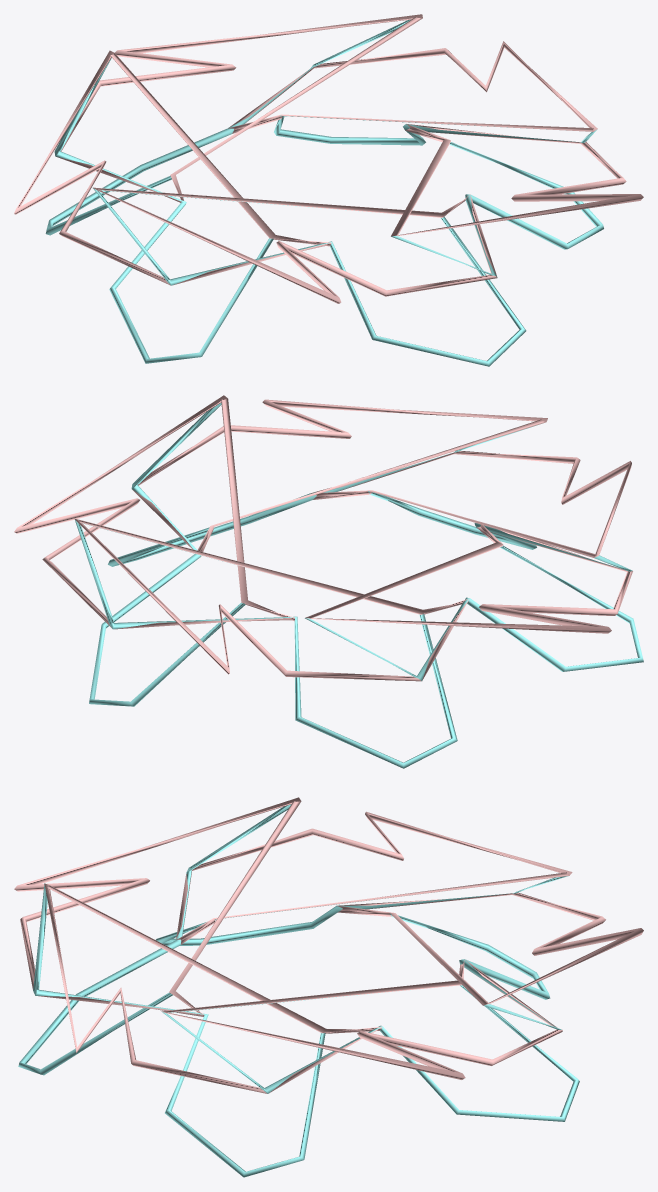
The model's file is MapE1.glb.
3 renders of one model, top to bottom at view 1: azimuth 30°, elevation 25°; view 2: azimuth 150°, elevation 25°; view 3: azimuth 270°, elevation 25°, orthographic.
Visible parts, largest first — view 1: RegularMap_E; view 2: RegularMap_E; view 3: RegularMap_E.
Part boxes in pixels (left/top/right/bottom): RegularMap_E: left=14, top=14, right=643, bottom=366; RegularMap_E: left=14, top=395, right=643, bottom=768; RegularMap_E: left=14, top=797, right=643, bottom=1177.
Bounding box in the file's own units: 2.6 × 0.6654 × 2.6.
